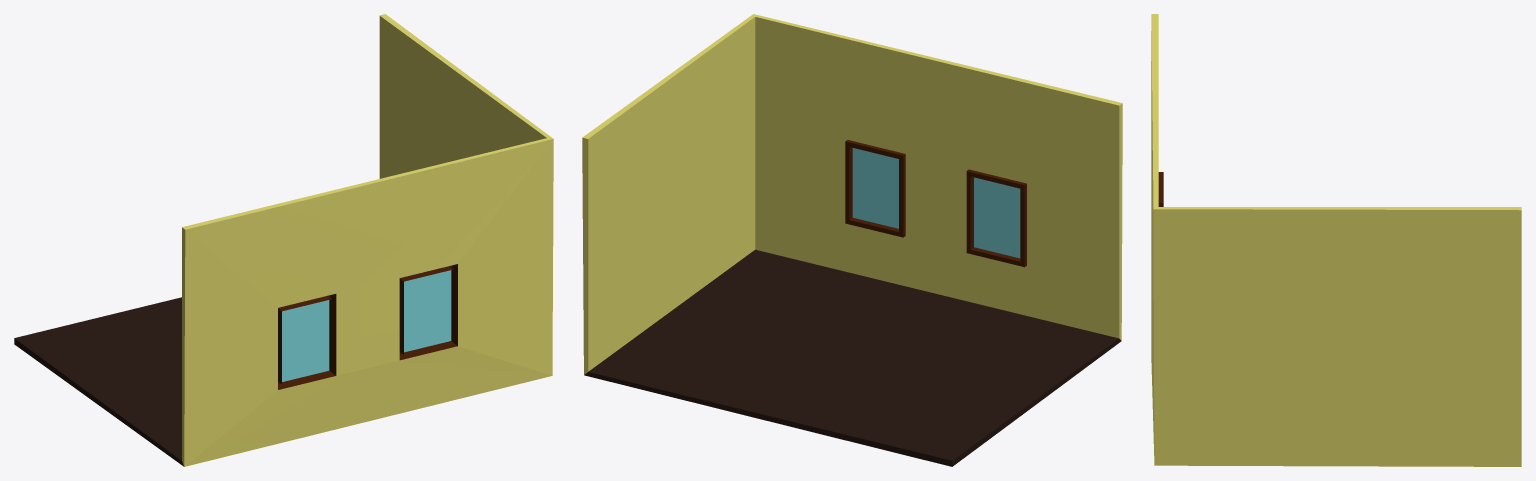
The model's file is TexturedDemo.fbx.
The picture shows the model from 3 angles, left to right: view 1: azimuth 30°, elevation 25°; view 2: azimuth 150°, elevation 25°; view 3: azimuth 270°, elevation 25°; orthographic projection. The views are drawn at different scales.
Visible parts, largest first — view 1: Haus; view 2: Haus; view 3: Haus.
Part boxes in pixels (box(x1,y1,x2,y2)): Haus: box(14, 14, 553, 466); Haus: box(582, 14, 1122, 466); Haus: box(1151, 14, 1521, 466).
Size of the model in its own units: 504 by 311 by 402.
